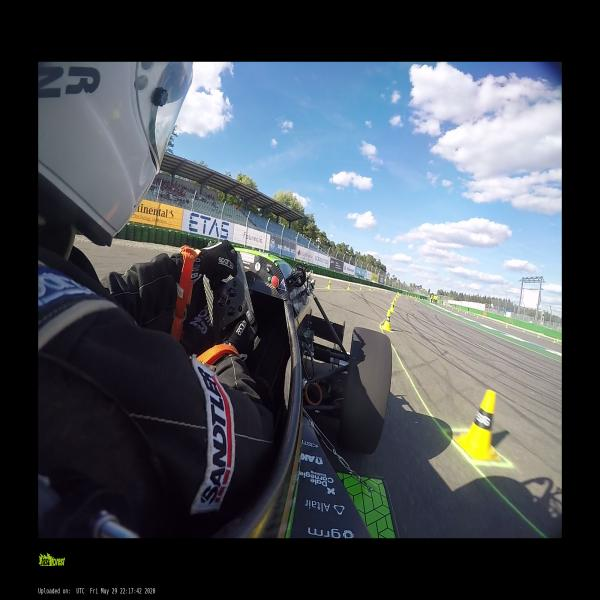yellow_cone: (460, 390, 501, 460), (382, 311, 392, 332), (326, 280, 330, 290), (391, 301, 395, 310), (346, 284, 350, 290), (394, 296, 397, 302), (359, 285, 362, 291)
